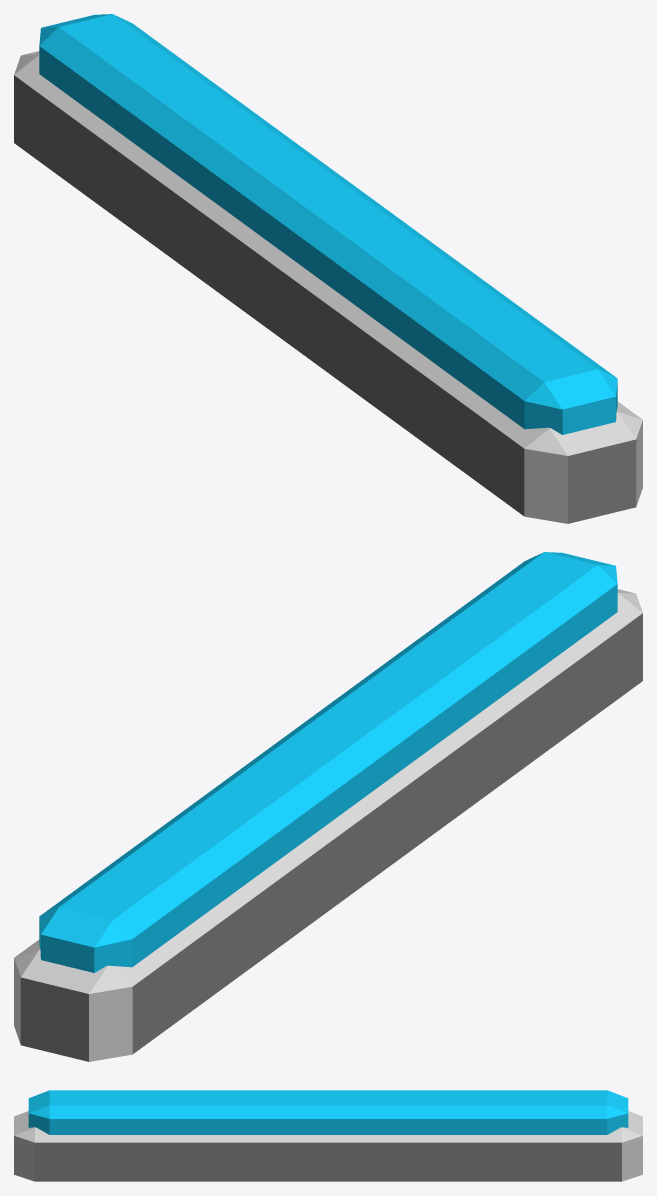
Rendered from FluorescentLight_Medium.FBX.
The picture shows the model from 3 angles, top to bottom: view 1: azimuth 30°, elevation 25°; view 2: azimuth 150°, elevation 25°; view 3: azimuth 270°, elevation 25°; orthographic projection. The views are drawn at different scales.
Visible parts, largest first — view 1: FluorescentLight_Medium; view 2: FluorescentLight_Medium; view 3: FluorescentLight_Medium.
Part boxes in pixels (x1,y1,x2,y2): FluorescentLight_Medium: (14,14,642,523); FluorescentLight_Medium: (14,552,642,1061); FluorescentLight_Medium: (14,1090,642,1181).
Size of the model in its own units: 4.65 by 4.4 by 37.2.
